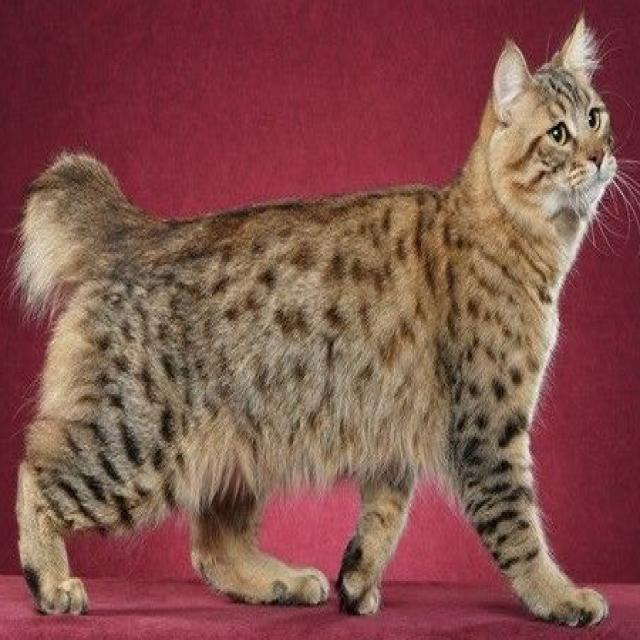American Bobtail: (9, 11, 621, 635)
